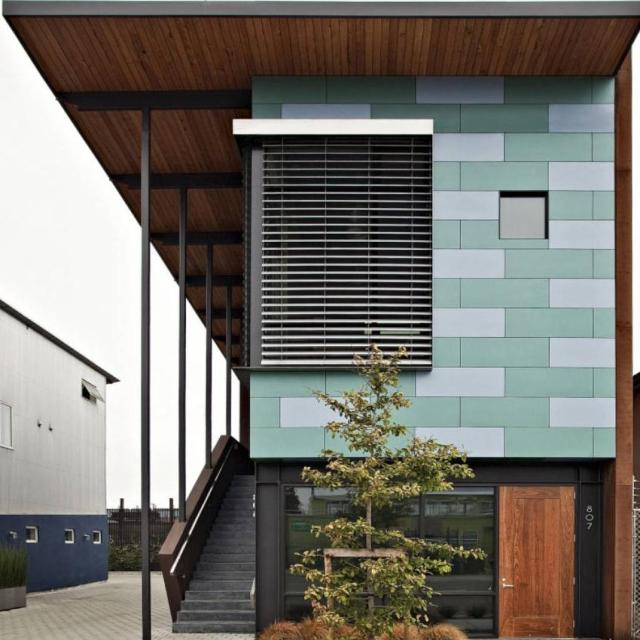door: (495, 485, 577, 639)
window: (285, 488, 496, 640), (503, 195, 548, 238)
